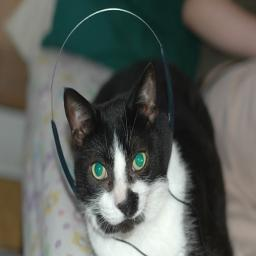catnose: (113, 194, 131, 217)
